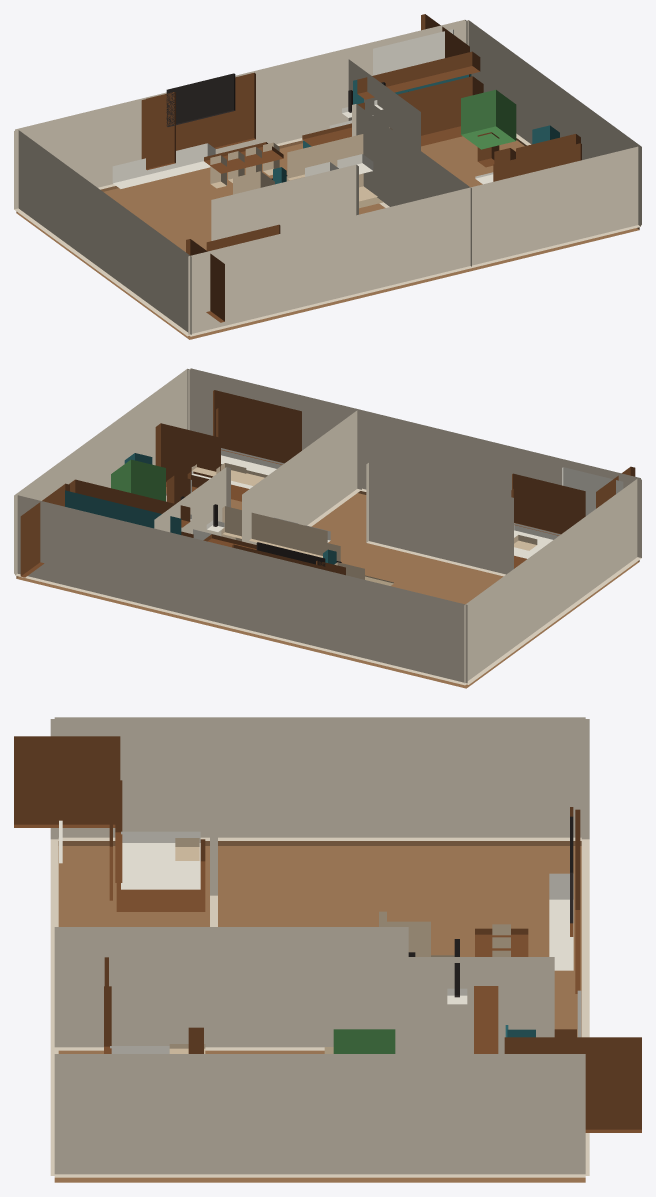
The model's file is apartment-approximation.glb.
The picture shows the model from 3 angles, top to bottom: view 1: azimuth 30°, elevation 25°; view 2: azimuth 150°, elevation 25°; view 3: azimuth 270°, elevation 25°; orthographic projection. The views are drawn at different scales.
Parts seen in each view (by area): view 1: North wall, South wall, West wall, Floor, East wall, Guest partition, Bedroom partition, TV wall, Kitchen counter, Plant canopy, Kitchen partition, TV (+13 smaller); view 2: South wall, West wall, North wall, Guest partition, Floor, Bedroom partition, East wall, Master fluted headboard, Walk-in closet, Sofa back, Kitchen partition, Guest headboard (+13 smaller); view 3: East wall, West wall, Floor, Bedroom partition, Kitchen partition, Guest curtain, Living curtain, Guest mattress, South wall, Guest bed, North wall, Living console (+7 smaller).
Boxes of the visible parts, x1,y1,x2,y2 form: North wall: (188,146,640,336); South wall: (15,19,467,209); West wall: (14,130,191,336); Floor: (16,136,639,339); East wall: (464,20,641,225); Guest partition: (211,164,358,240); Bedroom partition: (352,104,471,267); TV wall: (141,72,255,158); Kitchen counter: (357,76,483,146); Plant canopy: (461,89,516,149); Kitchen partition: (344,59,420,150); TV: (166,73,235,126); South wall: (15,495,467,685); West wall: (464,478,641,684); North wall: (188,368,640,557); Guest partition: (366,462,513,576); Floor: (16,487,639,688); Bedroom partition: (242,410,361,544); East wall: (14,368,191,574); Master fluted headboard: (213,390,301,463); Walk-in closet: (155,423,220,491); Sofa back: (222,506,327,557); Kitchen partition: (154,467,230,535); Guest headboard: (511,488,581,535); East wall: (54,1054,585,1177); West wall: (54,717,585,840); Floor: (54,841,585,1182); Bedroom partition: (54,927,408,1050); Kitchen partition: (333,957,554,1053); Guest curtain: (14,736,120,827); Living curtain: (504,1037,641,1132); Guest mattress: (121,831,200,889); South wall: (581,719,589,1175); Guest bed: (116,839,205,911); North wall: (50,719,58,1175); Living console: (549,873,573,970).
Size of the model in its own units: 18.18 by 3.46 by 14.19.
